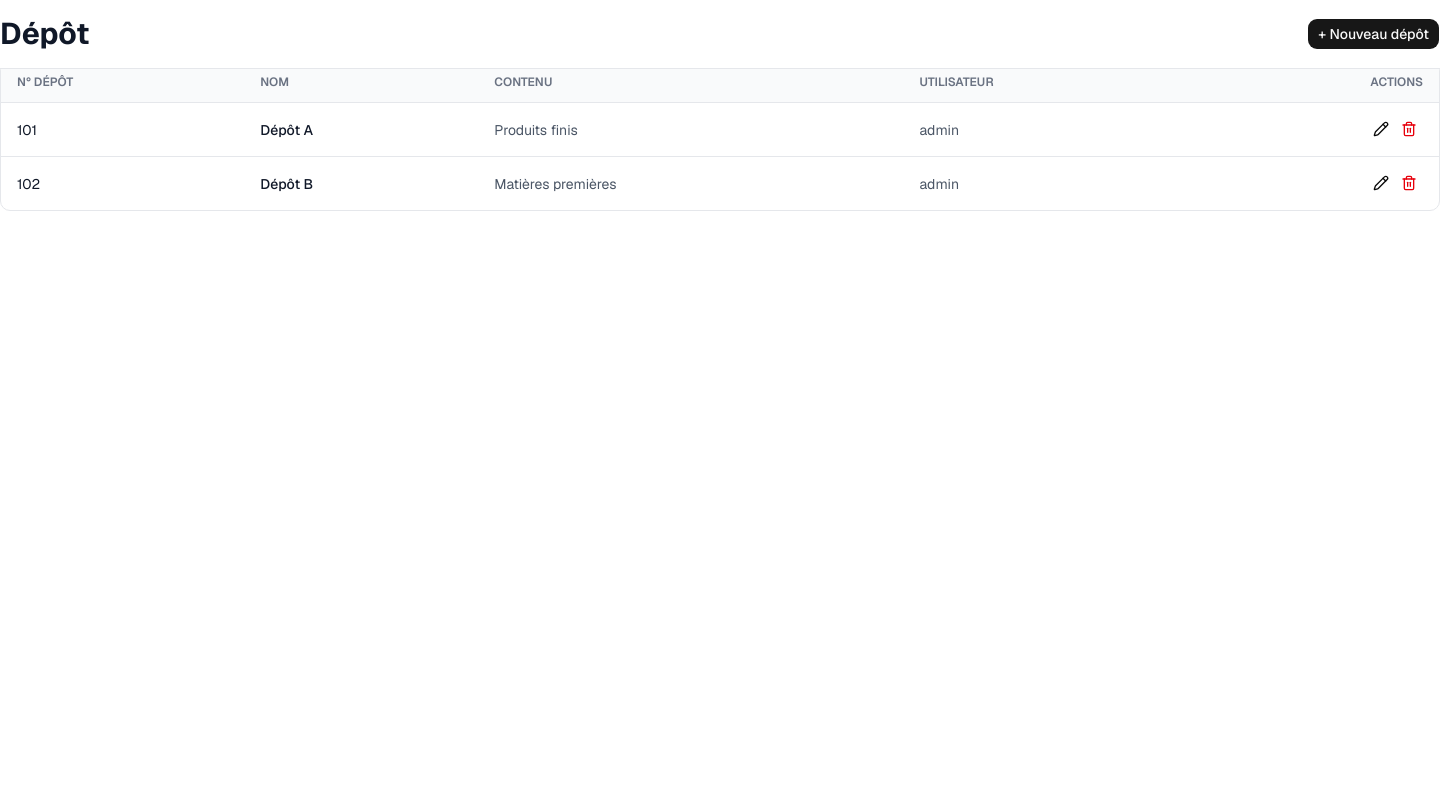
it: opens delete confirmation dialog
Expected: the text "Dépôt A" is shown, [244,102,478,156]
Click the button named "supprimer" in the row of "101" at {"x": 1409, "y": 129}, box [1395,115,1423,143]
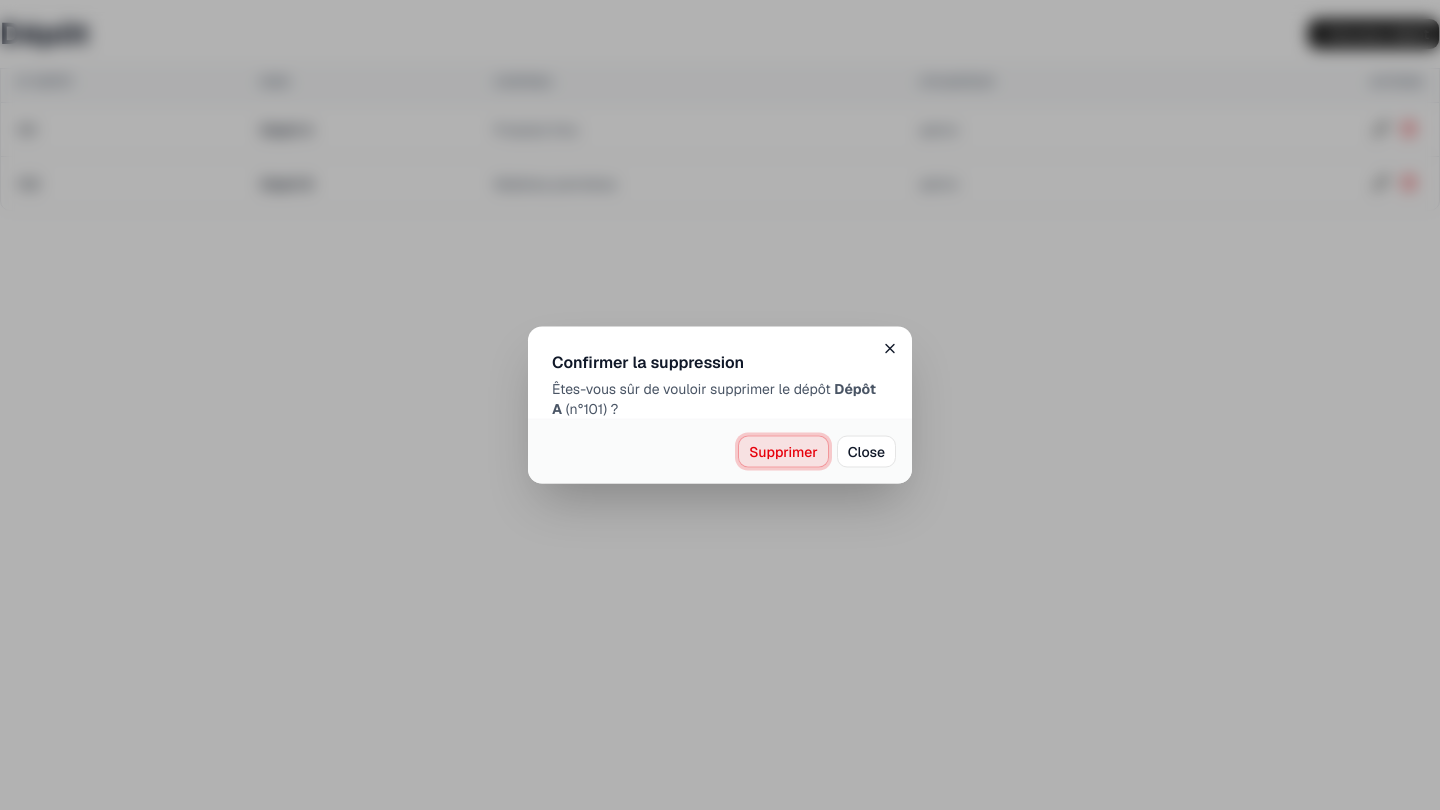
Result: the text "Êtes-vous sûr" is shown at [552,380,834,398]
